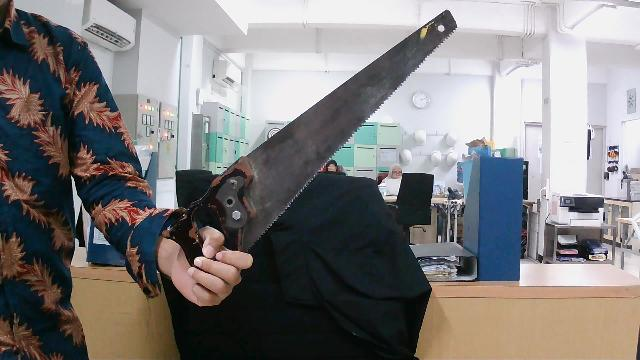gergaji_kayu: (121, 4, 465, 309)
